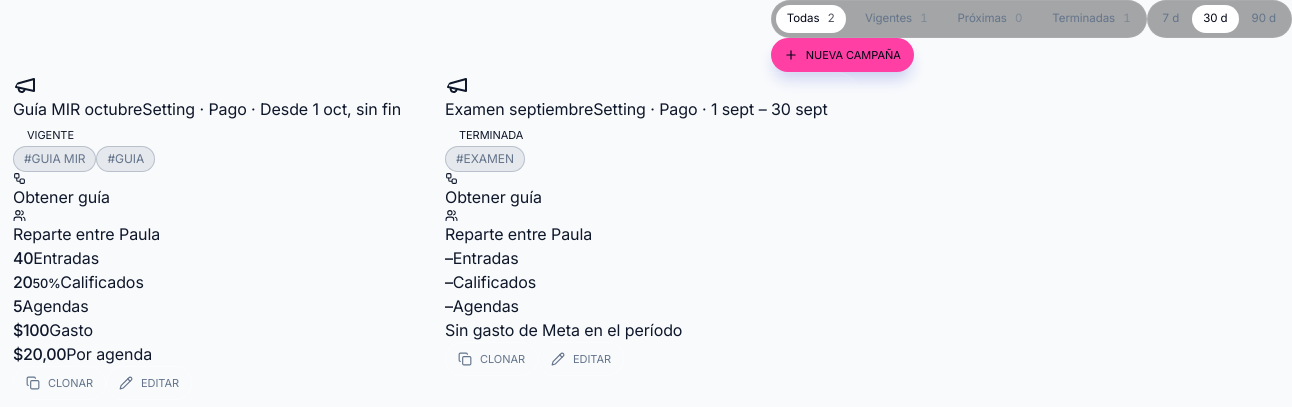
Test: Campañas › filtra por estado según la vigencia
The width and height of the screenshot is (1292, 407).
Expected: the button "Guía MIR octubre" is shown, [13,97,142,121]
Click the button "Terminadas 1".
click(1088, 19)  # box [1035,5,1142,33]
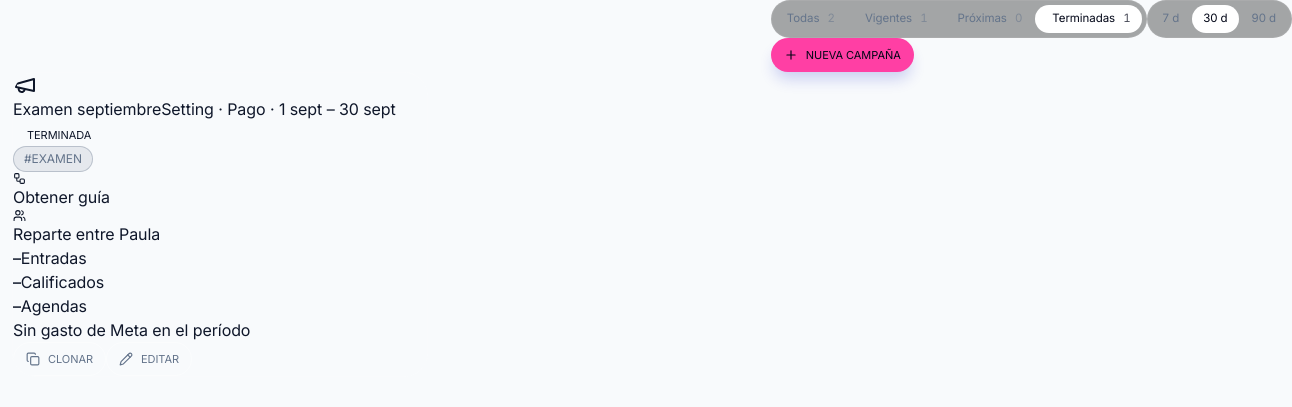
Expected: the button "Examen septiembre" is shown, [13,97,161,121]
Expected: the button "Guía MIR octubre" is gone
